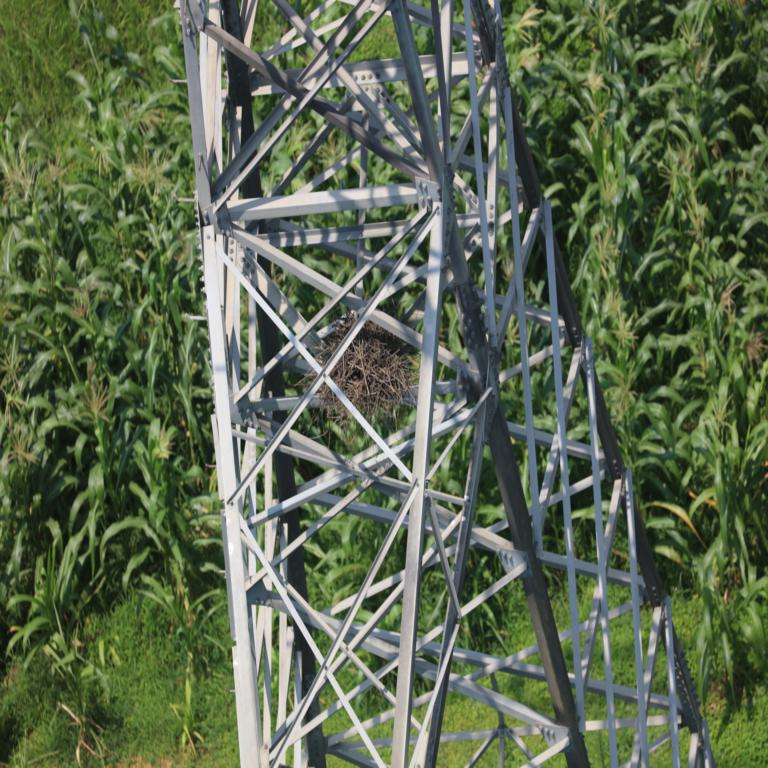nest: (313, 322, 414, 415)
